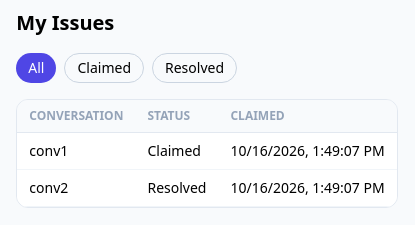
Scenario: MyIssuesPage › filters between claimed and resolved issues
expect the button "conv1" is shown: met, box [29, 141, 68, 161]
expect the button "conv2" is shown: met, box [29, 178, 68, 198]
Click the button "Claimed": point(104, 68) [64, 53, 144, 83]
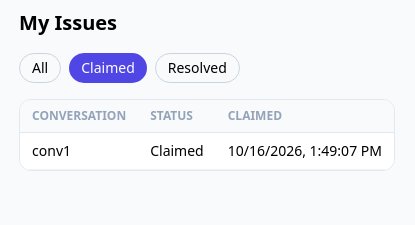
expect the button "conv1" is shown: met, box [32, 141, 71, 161]
expect the button "conv2" is gone: met
Click the button "Resolved": point(197, 68) [155, 53, 240, 83]
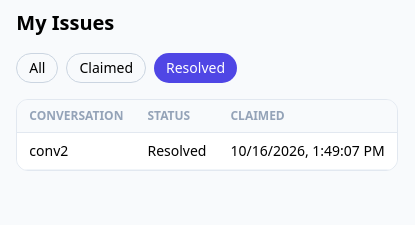
expect the button "conv1" is gone: met
expect the button "conv2" is shown: met, box [29, 141, 68, 161]
